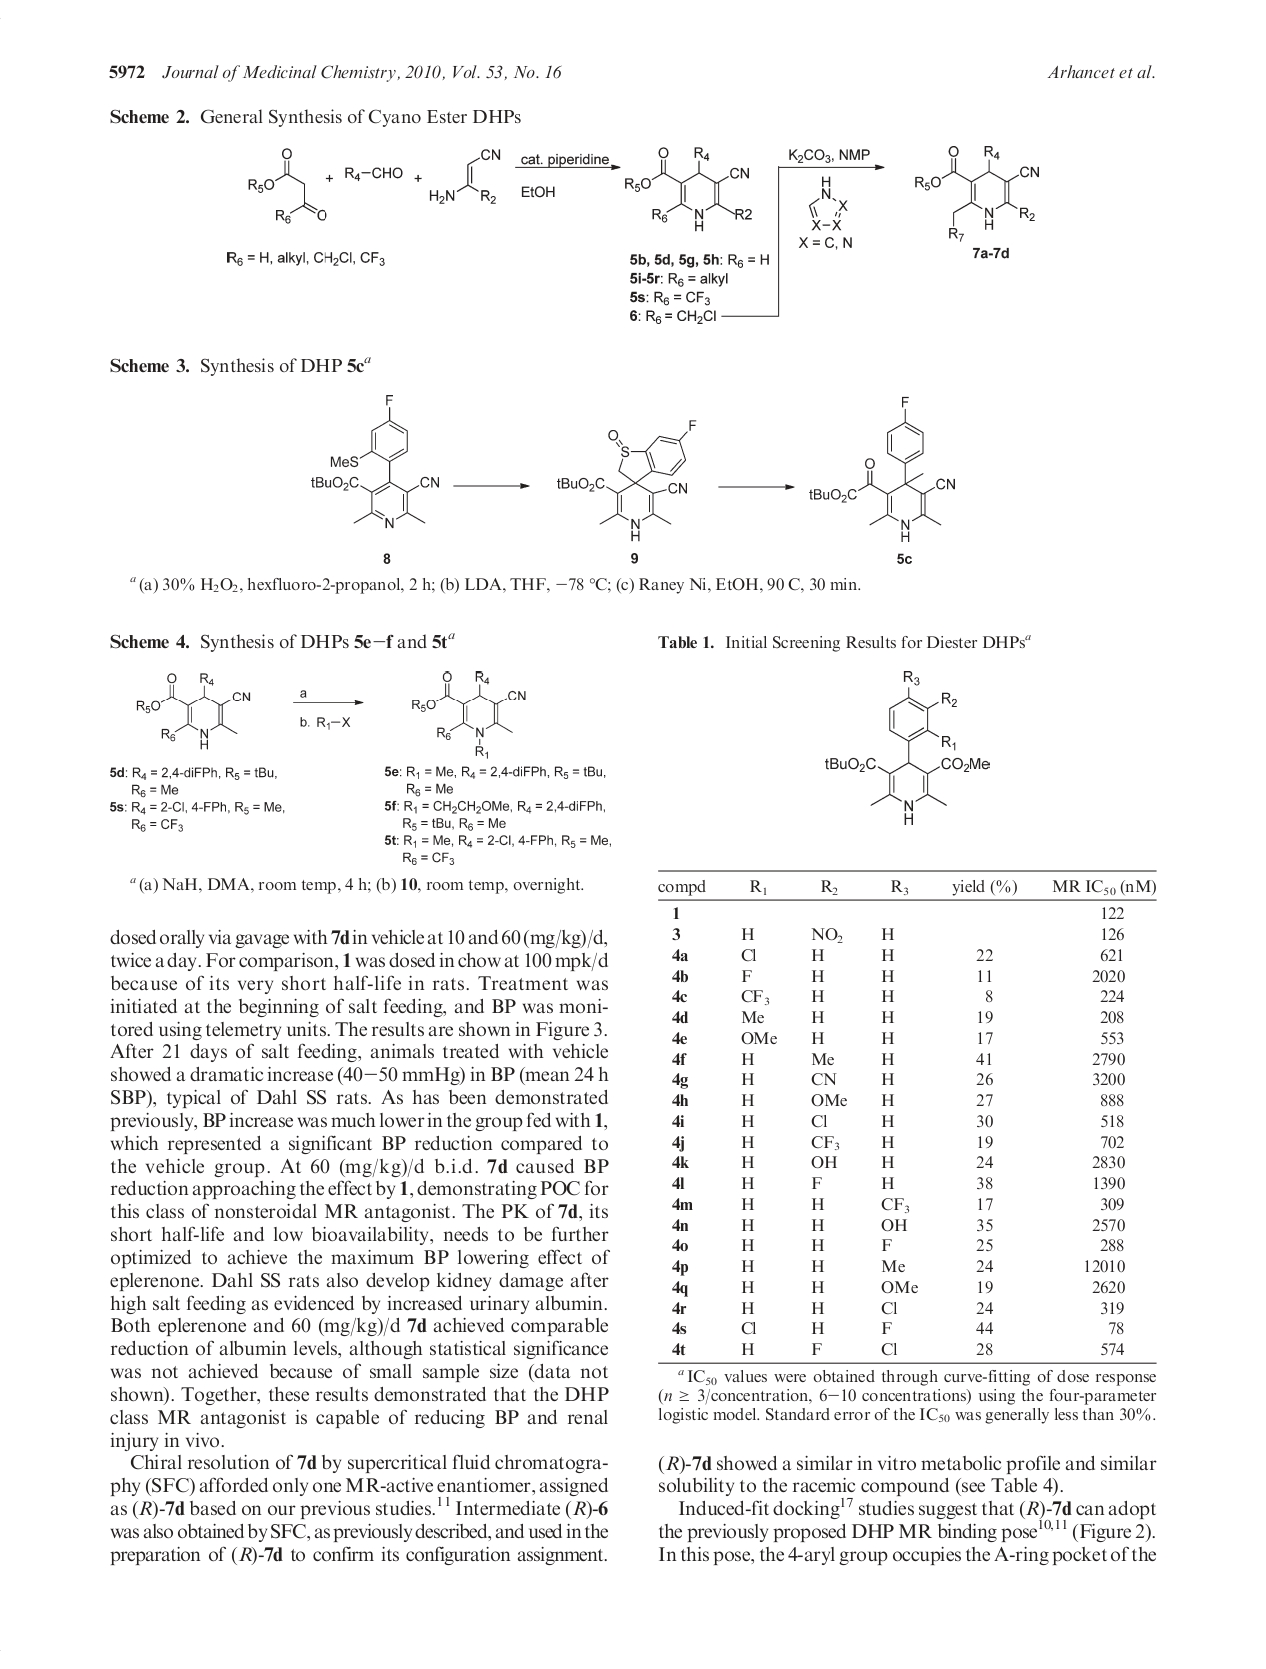exist_molecular: (823, 668, 993, 826), (809, 392, 959, 543), (309, 390, 442, 531), (556, 415, 699, 543), (914, 144, 1043, 243), (622, 142, 755, 231), (410, 668, 531, 759), (134, 668, 254, 751), (245, 145, 330, 225), (426, 144, 504, 207), (797, 173, 856, 251)
